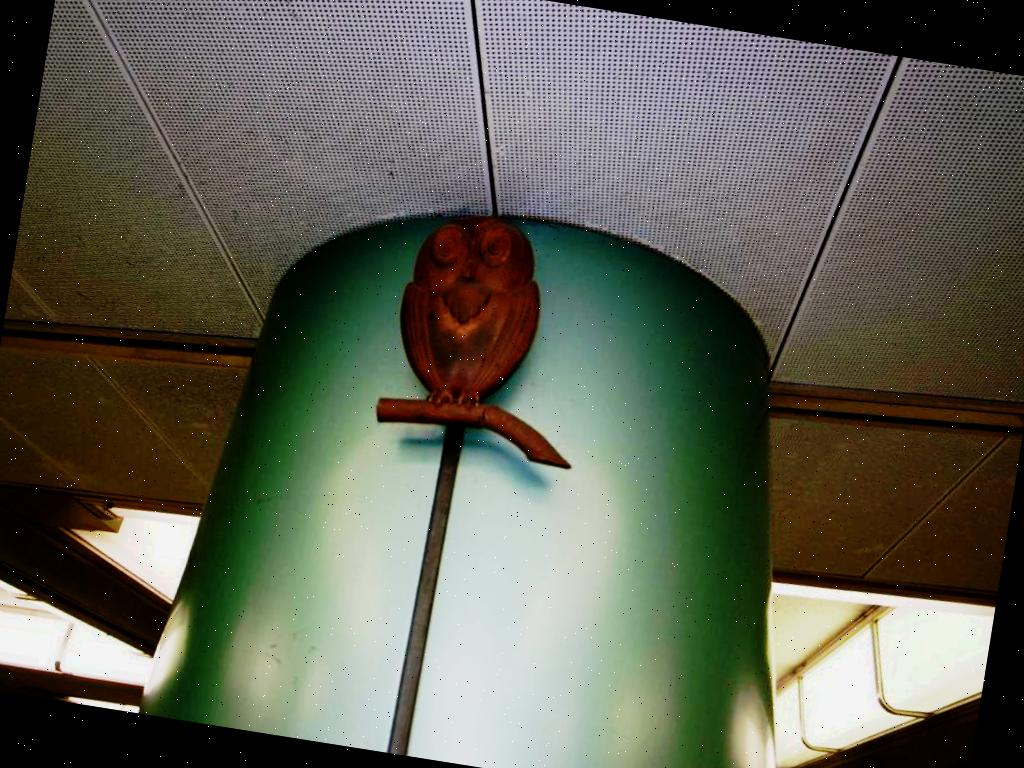Owl: (387, 200, 557, 418)
